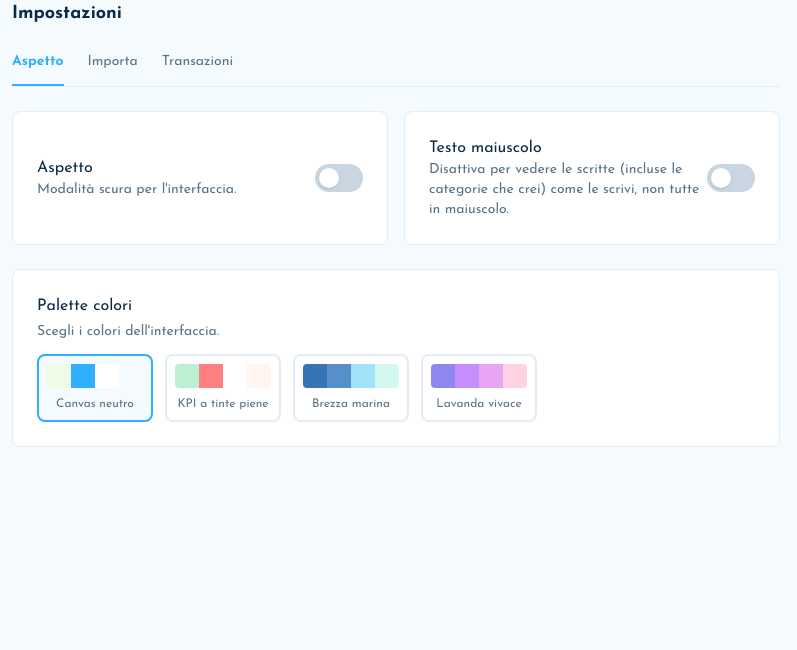
Test: il cancello della parola digitata › l eliminazione per periodo manda le date scelte
Click the tab "Transazioni": [197, 69] box [162, 52, 233, 86]
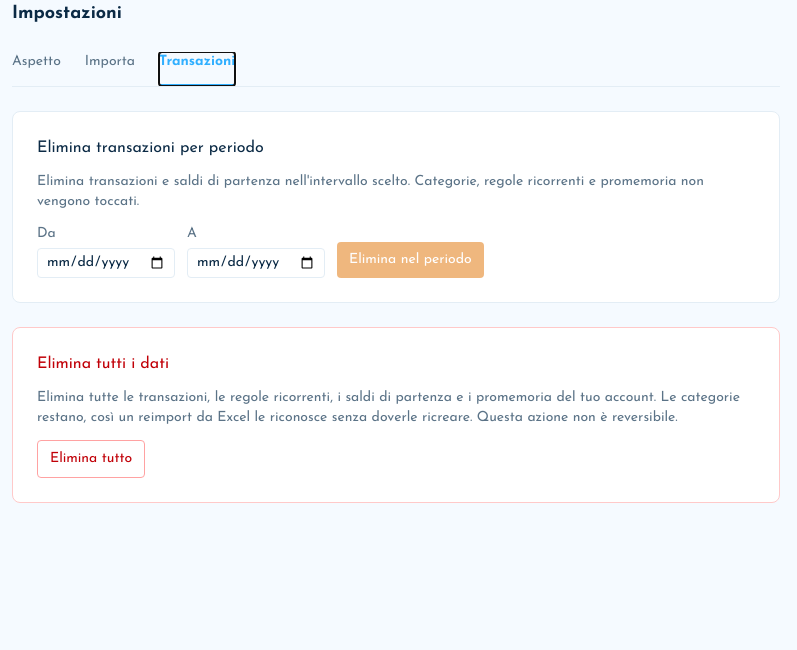
Expected: the button "Elimina nel periodo" is disabled, [337, 242, 484, 278]
In the date field labelled "Da": [106, 263] box [37, 248, 175, 278], type "2026-01-01"
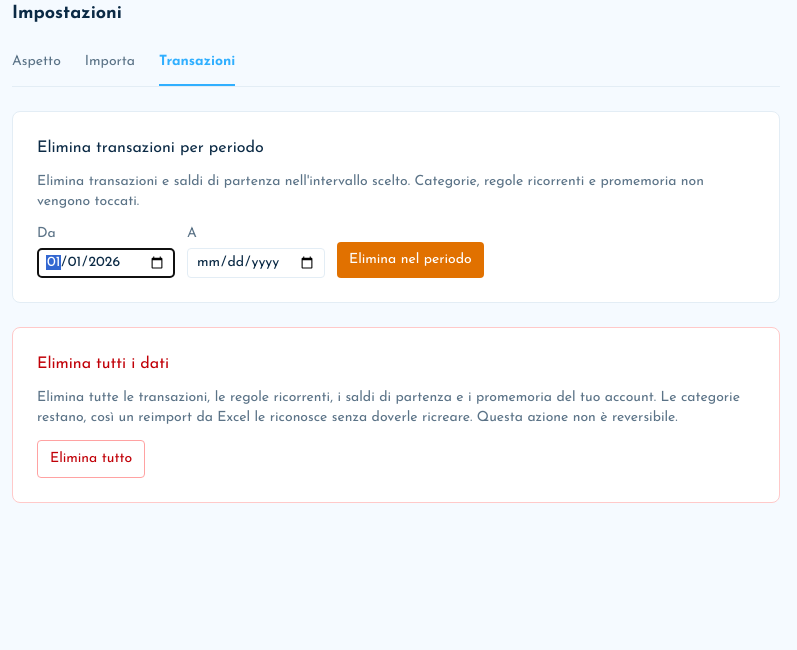
In the date field labelled "A": [256, 263] box [187, 248, 325, 278], type "2026-03-31"
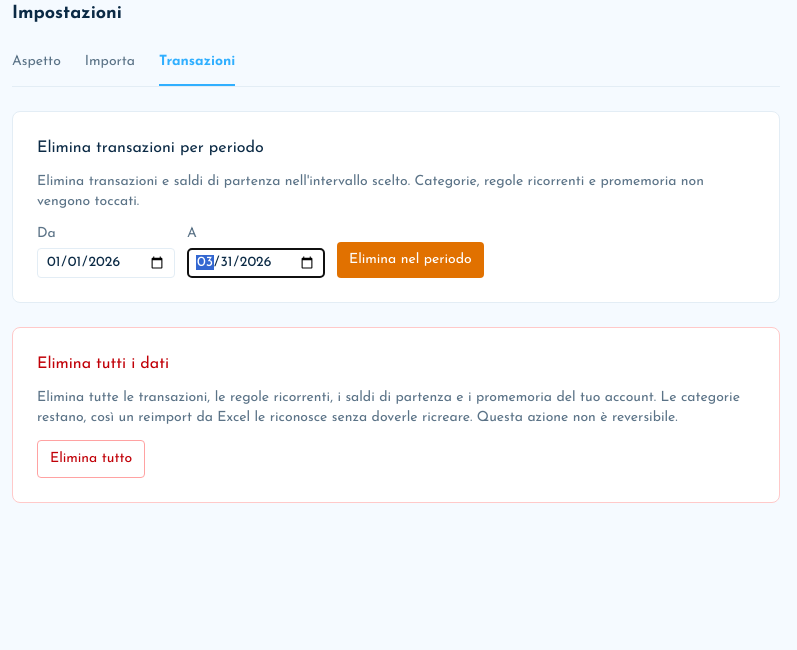
Click the button "Elimina nel periodo": [410, 260] box [337, 242, 484, 278]
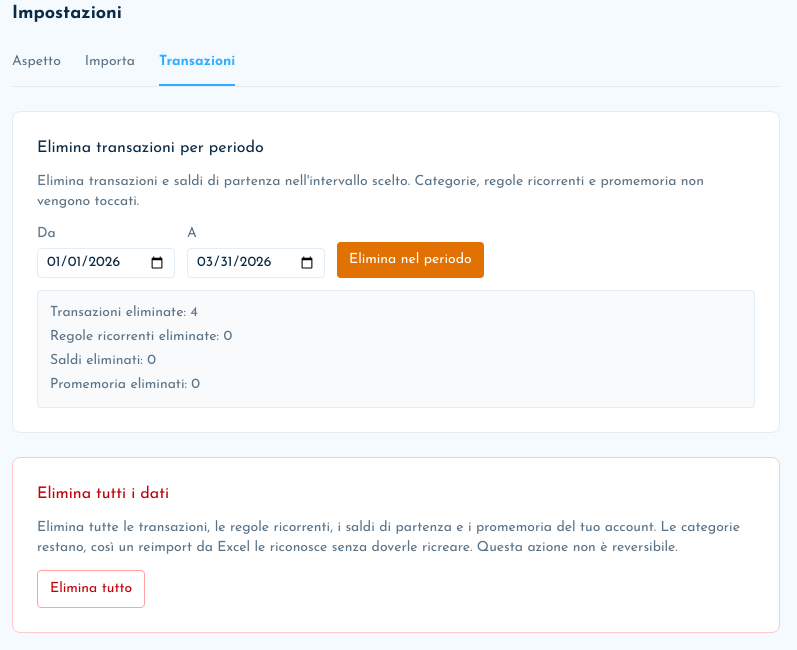
Expected: the list item "Transazioni eliminate: 4" is shown, [50, 305, 198, 320]
